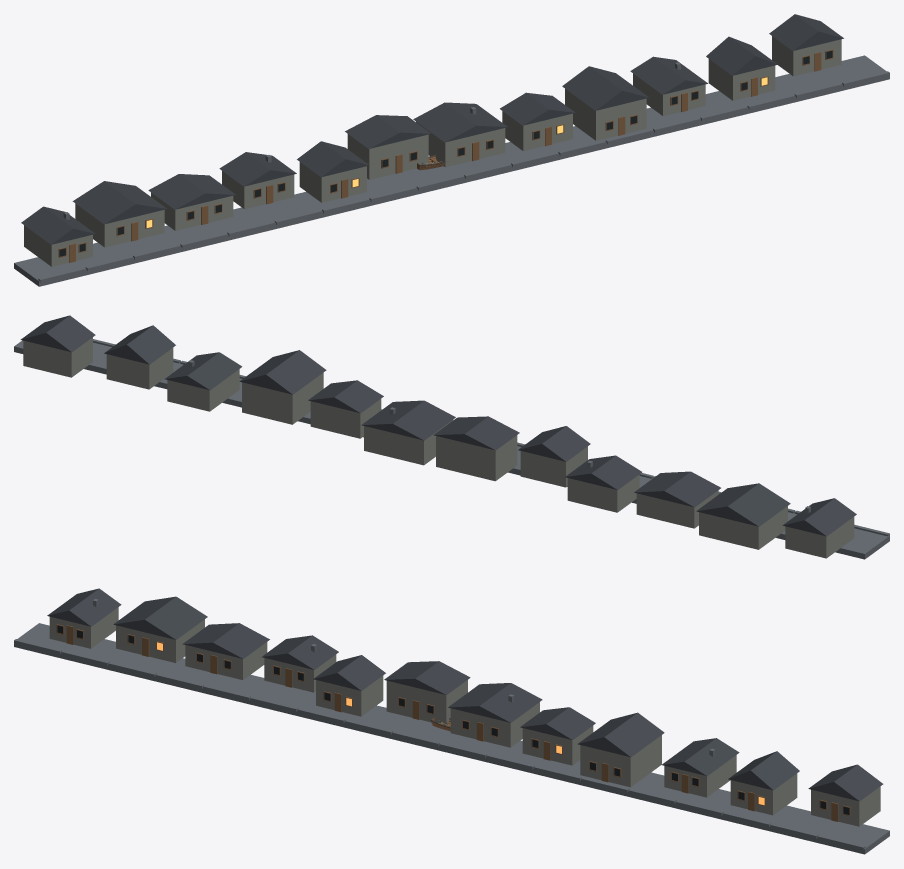
File: pre-nauka-river-life-v006.glb
3 renders of one model, top to bottom at view 1: azimuth 30°, elevation 25°; view 2: azimuth 150°, elevation 25°; view 3: azimuth 330°, elevation 25°, orthographic.
Parts seen in each view (by area): view 1: Shore_Village | charcoal pitched roofs, Shore_Village | old quay granite, Shore_Village | quiet weathered plaster, Shore_Village | weathered warm timber, Shore_Village | dark inactive windows; view 2: Shore_Village | quiet weathered plaster, Shore_Village | charcoal pitched roofs, Shore_Village | old quay granite; view 3: Shore_Village | charcoal pitched roofs, Shore_Village | old quay granite, Shore_Village | quiet weathered plaster, Shore_Village | weathered warm timber, Shore_Village | dark inactive windows.
Boxes of the visible parts, x1,y1,x2,y2 form: Shore_Village | charcoal pitched roofs: [21, 14, 843, 244]; Shore_Village | old quay granite: [14, 55, 889, 286]; Shore_Village | quiet weathered plaster: [24, 36, 841, 266]; Shore_Village | weathered warm timber: [58, 49, 833, 262]; Shore_Village | dark inactive windows: [59, 50, 832, 256]; Shore_Village | quiet weathered plaster: [23, 337, 854, 558]; Shore_Village | charcoal pitched roofs: [20, 315, 856, 536]; Shore_Village | old quay granite: [14, 339, 889, 559]; Shore_Village | charcoal pitched roofs: [47, 588, 883, 801]; Shore_Village | old quay granite: [14, 598, 889, 854]; Shore_Village | quiet weathered plaster: [49, 607, 880, 826]; Shore_Village | weathered warm timber: [56, 624, 850, 821]; Shore_Village | dark inactive windows: [57, 625, 849, 814].
Size of the model in its own units: 90 by 5.1 by 9.02.
